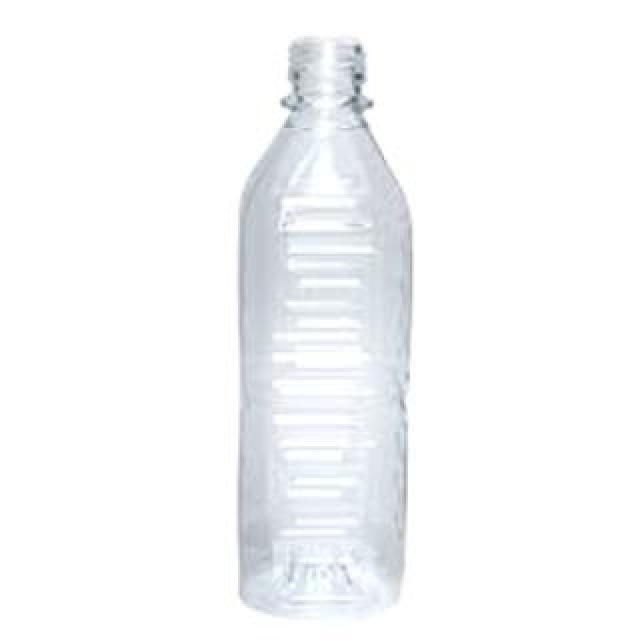Pet_Bottle: (234, 37, 412, 625)
